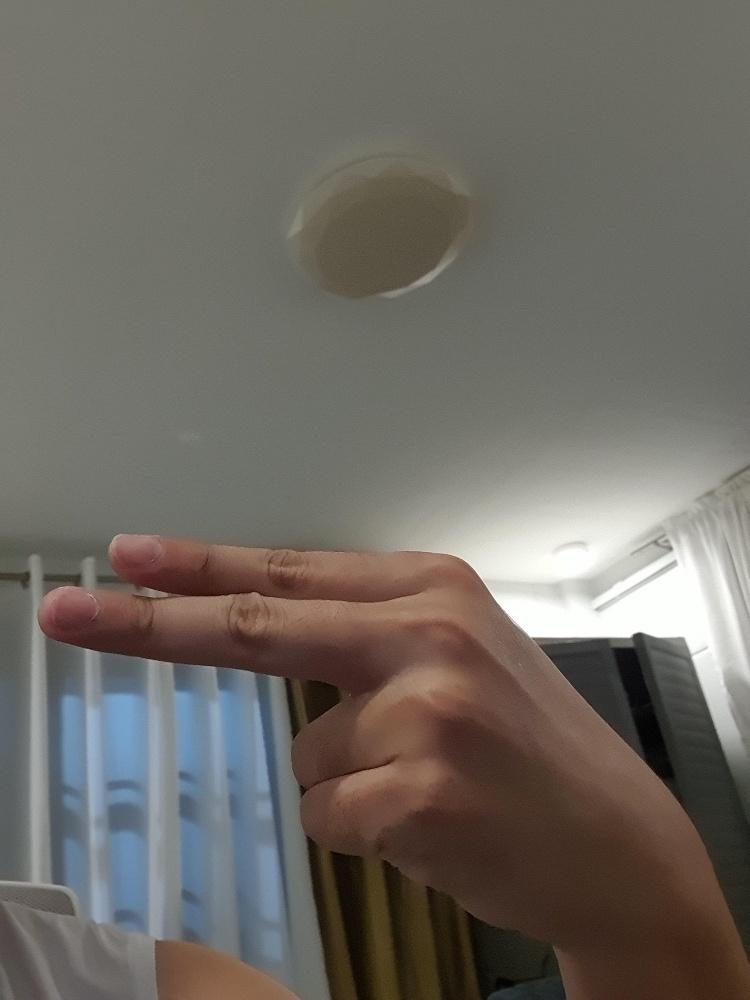h: (33, 524, 666, 952)
